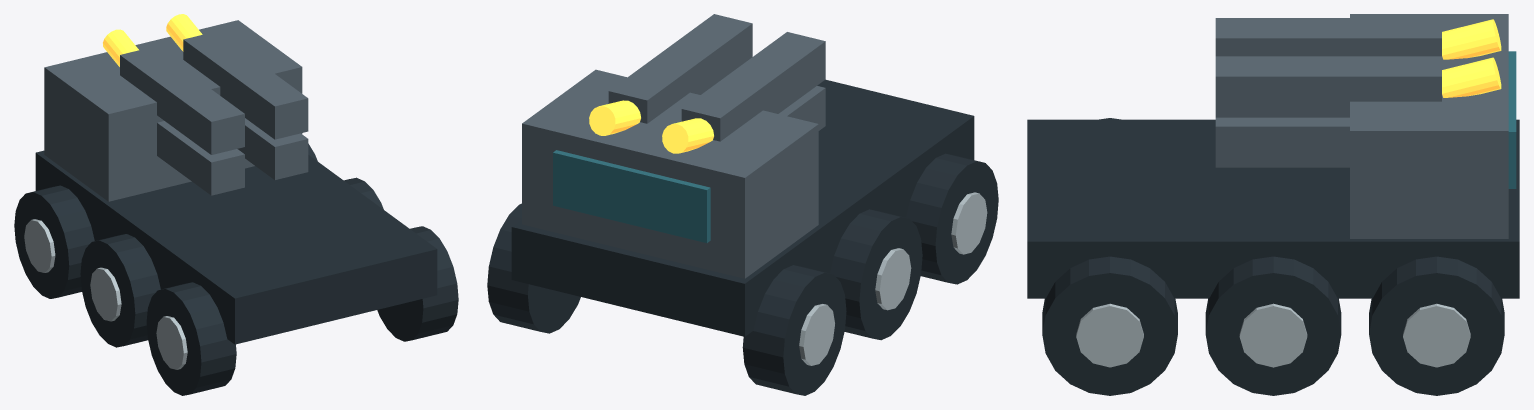
File: missile-truck.glb
3 renders of one model, left to right at view 1: azimuth 30°, elevation 25°; view 2: azimuth 150°, elevation 25°; view 3: azimuth 270°, elevation 25°, orthographic. The views are drawn at different scales.
Visible parts, largest first — view 1: truck chassis, cab, missile cassette.001, missile cassette.003, tire, tire.001, tire.002, tire.003, missile cassette, missile cassette.002, wheel hub.001, wheel hub.002 (+4 smaller); view 2: truck chassis, cab, glowing status panel, tire.002, missile cassette.001, missile cassette.003, tire, tire.001, tire.005, wheel hub.001, wheel hub, wheel hub.002 (+3 smaller); view 3: truck chassis, cab, missile cassette.003, tire.004, tire.003, tire.005, missile cassette.001, missile cassette.002, wheel hub.003, wheel hub.005, wheel hub.004, missile nose.001 (+2 smaller).
Part boxes in pixels (box(x1,y1,x2,y2)): truck chassis: box(35, 150, 437, 344); cab: box(44, 20, 302, 201); missile cassette.001: box(120, 47, 244, 154); missile cassette.003: box(183, 31, 308, 139); tire: box(146, 282, 236, 395); tire.001: box(80, 234, 160, 347); tire.002: box(14, 185, 94, 298); tire.003: box(377, 226, 458, 341); missile cassette: box(157, 121, 244, 195); missile cassette.002: box(237, 118, 308, 179); wheel hub.001: box(90, 267, 121, 321); wheel hub.002: box(24, 219, 55, 272); truck chassis: box(511, 79, 974, 336); cab: box(522, 69, 818, 278); glowing status panel: box(553, 150, 710, 242); tire.002: box(742, 265, 846, 395); missile cassette.001: box(681, 32, 825, 141); missile cassette.003: box(608, 14, 752, 123); tire: box(906, 153, 998, 284); tire.001: box(830, 209, 922, 340); tire.005: box(487, 203, 580, 333); wheel hub.001: box(875, 248, 911, 310); wheel hub: box(951, 192, 987, 254); wheel hub.002: box(799, 304, 834, 365); truck chassis: box(1027, 119, 1519, 298); cab: box(1350, 14, 1508, 238); missile cassette.003: box(1215, 56, 1441, 117); tire.004: box(1205, 256, 1341, 395); tire.003: box(1042, 256, 1177, 395); tire.005: box(1369, 256, 1504, 395); missile cassette.001: box(1215, 18, 1441, 56); missile cassette.002: box(1215, 117, 1349, 167); wheel hub.003: box(1076, 303, 1143, 367); wheel hub.005: box(1403, 303, 1470, 367); wheel hub.004: box(1239, 303, 1307, 367); missile nose.001: box(1442, 19, 1501, 59).
Size of the model in its own units: 1.5 by 1.22 by 1.96.
